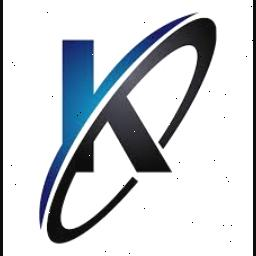k: (51, 40, 179, 174)
